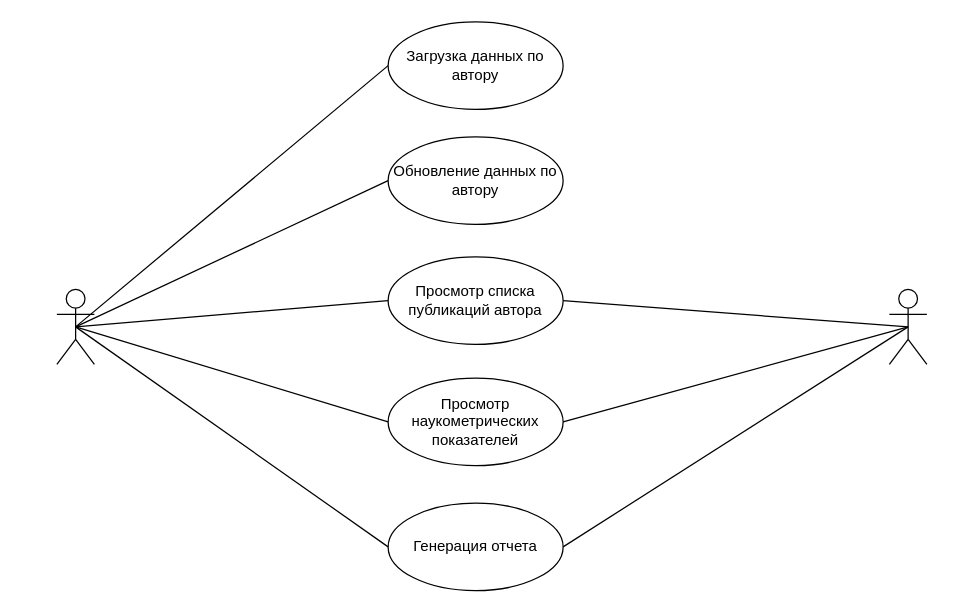
The diagram is 979 pixels wide and 613 high, and some of its shapes have lost their labels. Here are the shapes that lost their labels. From the top down, the centre of each, then its label:
At (x=75, y=326): "Администратор".
At (x=907, y=326): "Пользователь".
